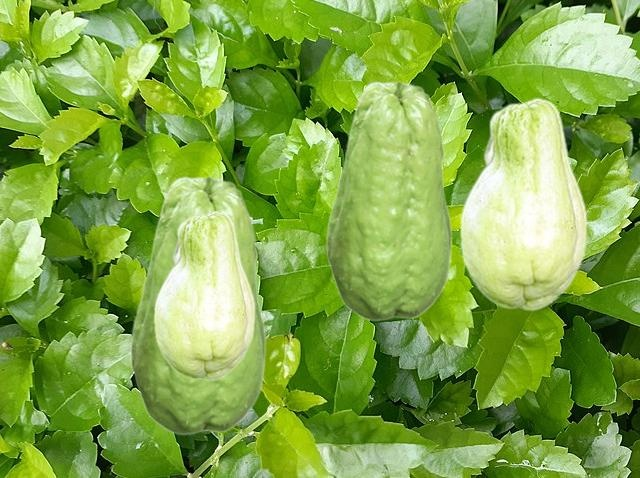sayote: (129, 175, 266, 435), (325, 80, 452, 321), (459, 97, 586, 310), (153, 210, 254, 380)
